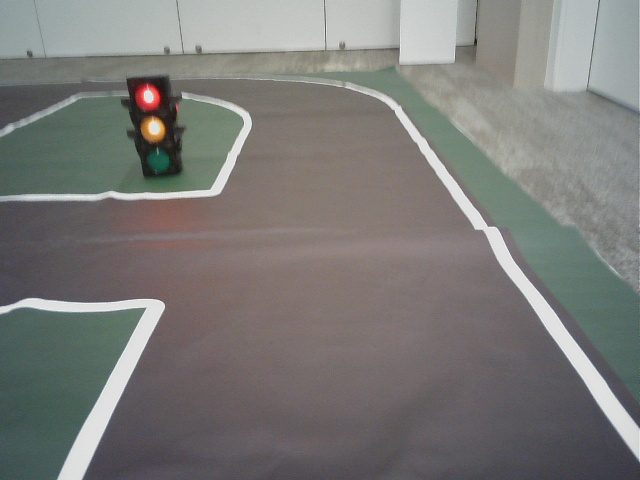red: (133, 79, 174, 176)
